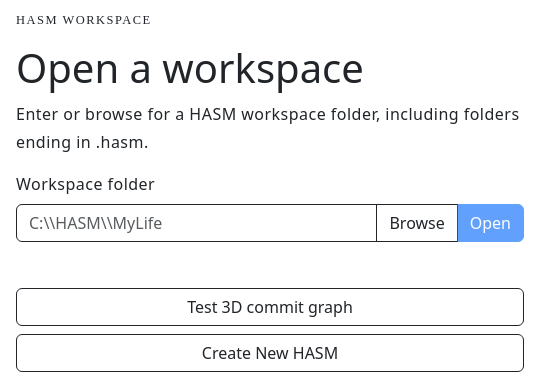
Test case: SEQ-01 app launch validation › TC-02-REACT-BROWSE-004 invalidates an old valid path as soon as a new folder is selected
Type "C:\\valid" into the field labelled "Workspace folder" at (197, 223), box [16,204,377,242]
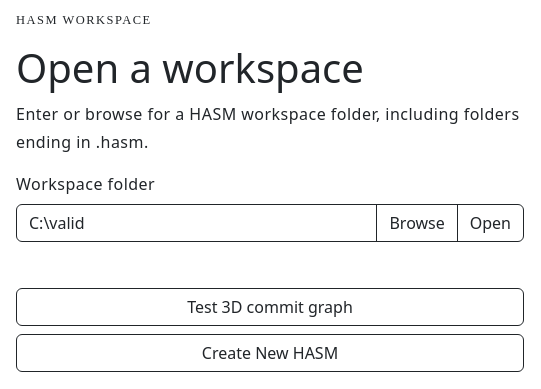
Check: the button "Open" is enabled, box [457,204,524,242]
Click the button "Browse" at (417, 223), box [376,204,458,242]
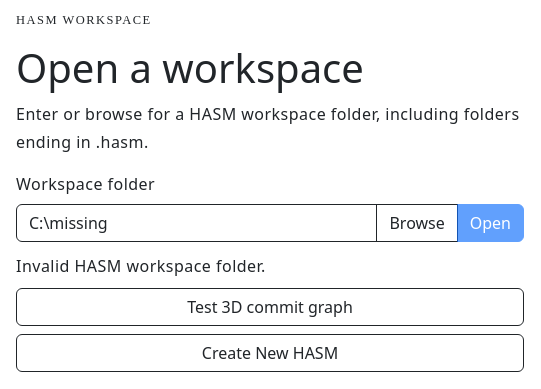
Check: the field labelled "Workspace folder" holds "C:\\missing", box [16,204,377,242]
Check: the button "Open" is disabled, box [457,204,524,242]
Check: the text "Invalid HASM workspace folder." is shown, box [16,255,266,277]
